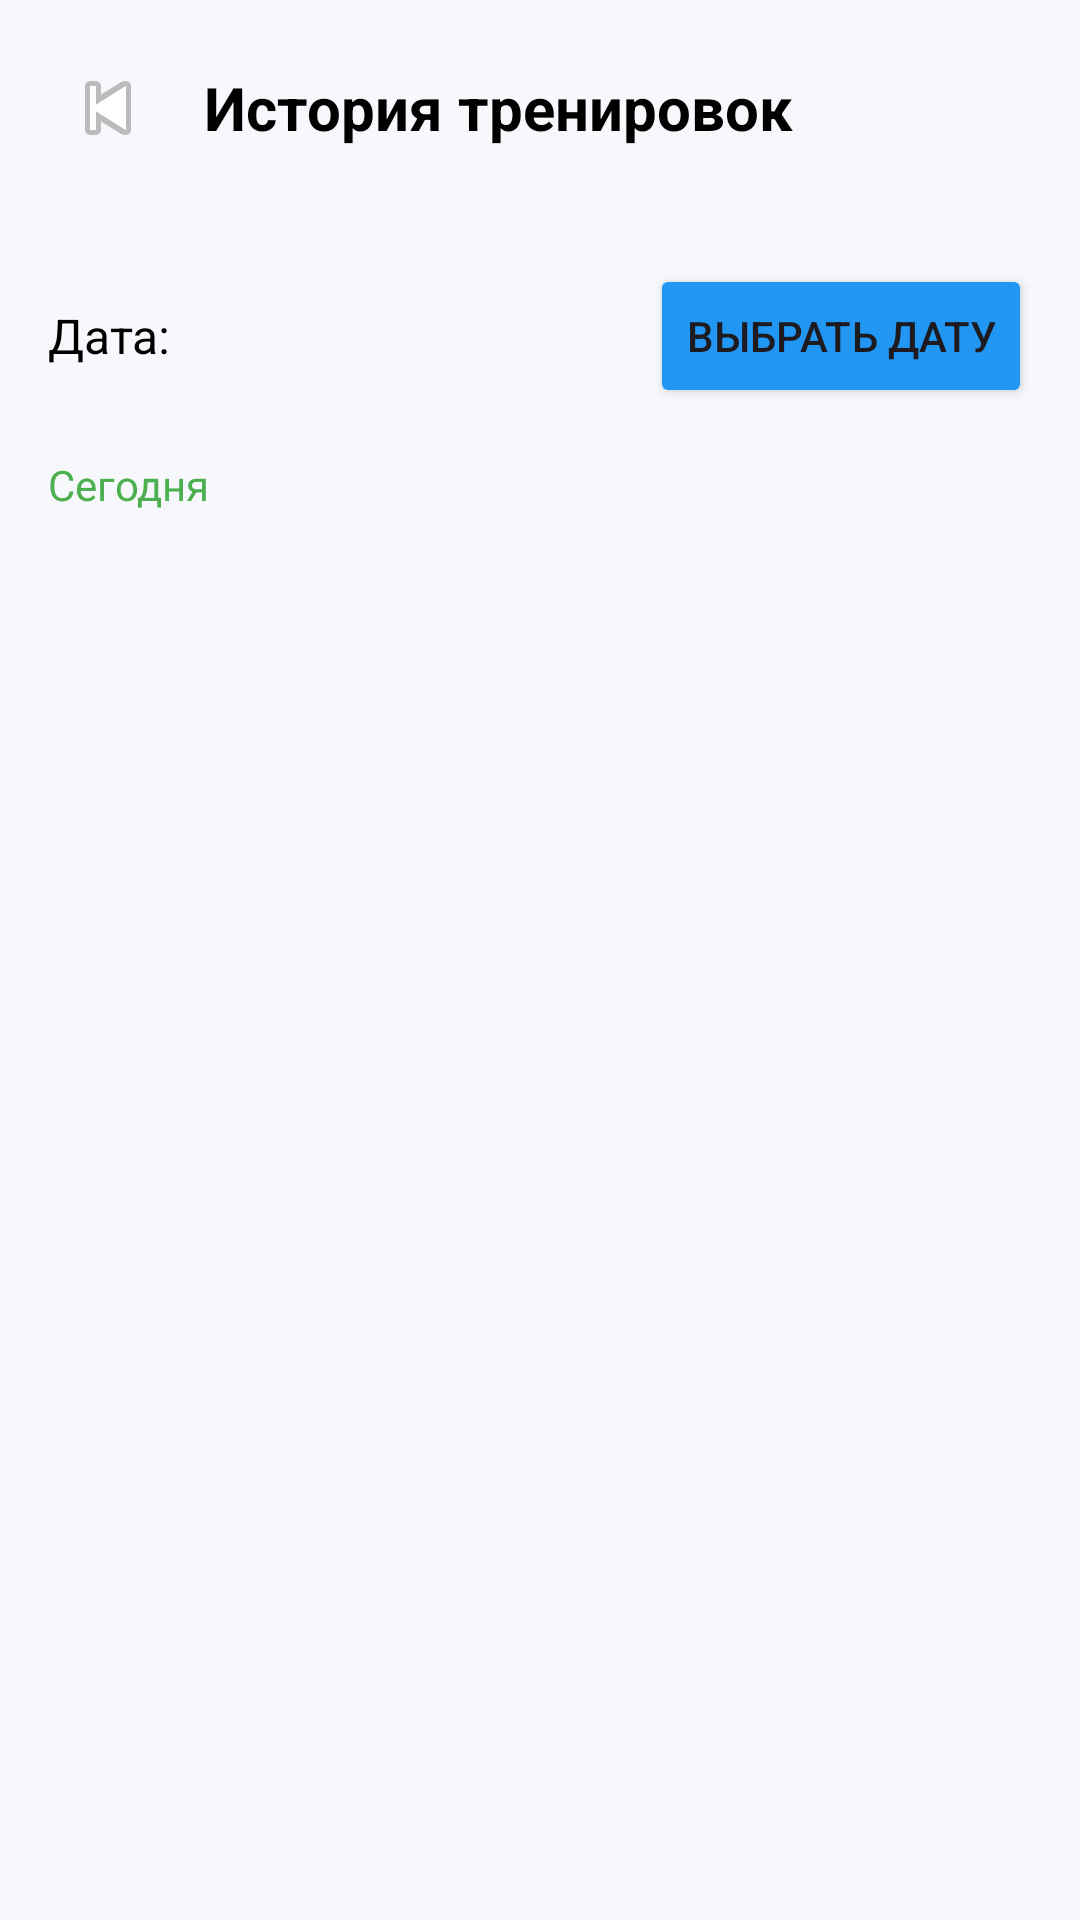

Locate icon controls on the screen. Image size 1080 x 1920, boxes as (x1, y1, x2, y2).
Назад: (85, 81, 131, 135)
